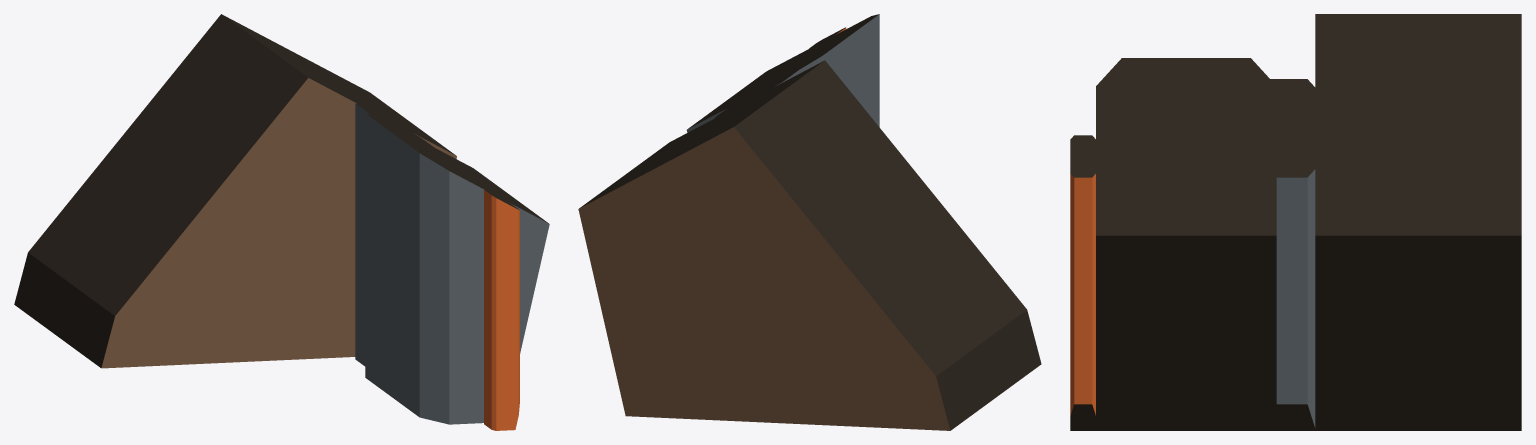
Rendered from SM_DoorShard_03_15.fbx.
The picture shows the model from 3 angles, left to right: view 1: azimuth 30°, elevation 25°; view 2: azimuth 150°, elevation 25°; view 3: azimuth 270°, elevation 25°; orthographic projection. The views are drawn at different scales.
Parts seen in each view (by area): view 1: SM_DoorShard_03_15; view 2: SM_DoorShard_03_15; view 3: SM_DoorShard_03_15.
Boxes of the visible parts, x1,y1,x2,y2 form: SM_DoorShard_03_15: [14, 14, 549, 430]; SM_DoorShard_03_15: [578, 14, 1041, 430]; SM_DoorShard_03_15: [1070, 14, 1521, 430].
Bounding box in the file's own units: 37.7 × 35 × 30.56.
